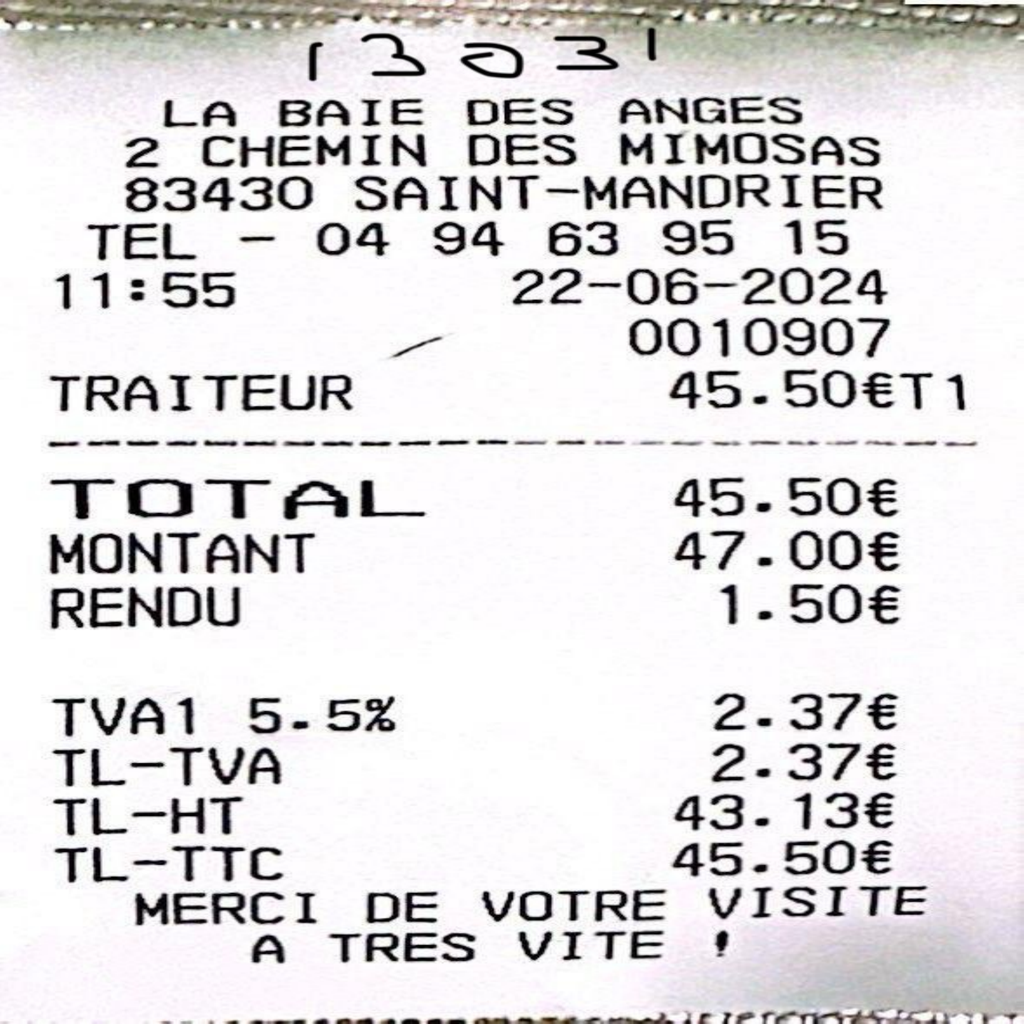recipt: (4, 2, 1020, 1016)
